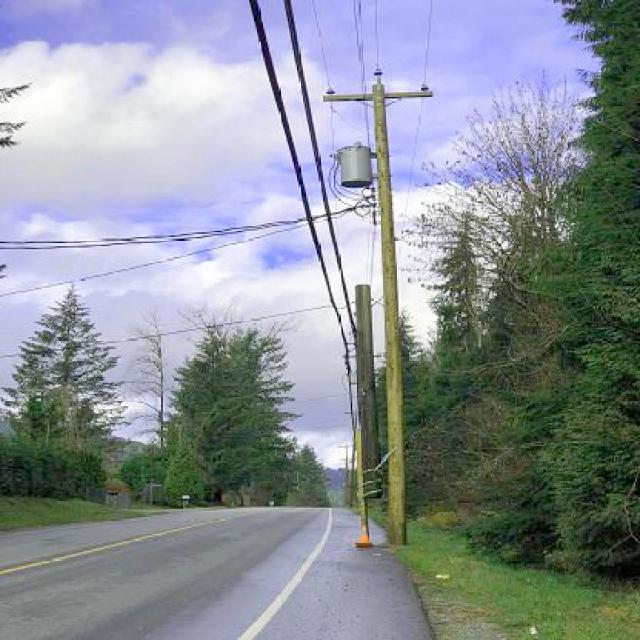crossarm: (318, 85, 433, 103)
pole: (374, 91, 406, 546), (355, 286, 375, 548)
transformer: (336, 145, 374, 188)
wire: (250, 0, 350, 366), (0, 206, 356, 307), (283, 1, 357, 336), (0, 302, 350, 361), (1, 219, 308, 253), (0, 216, 309, 245), (311, 10, 334, 90), (427, 1, 435, 93), (377, 4, 379, 80)
